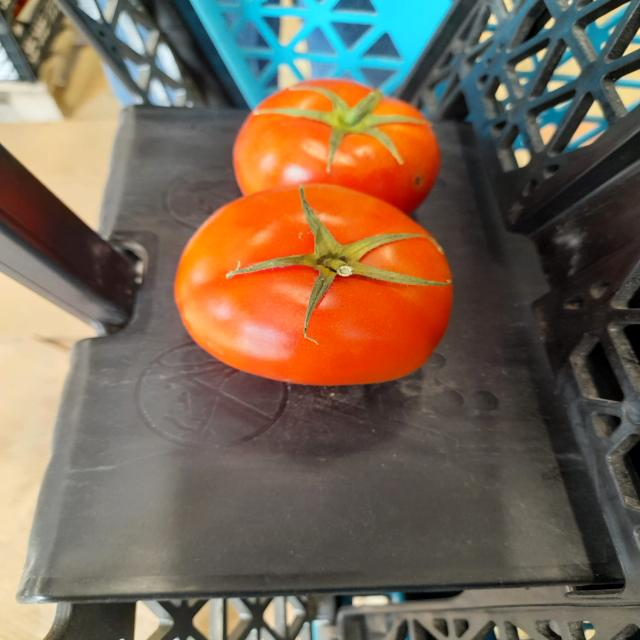tomato: (161, 182, 469, 394), (221, 64, 455, 215)
